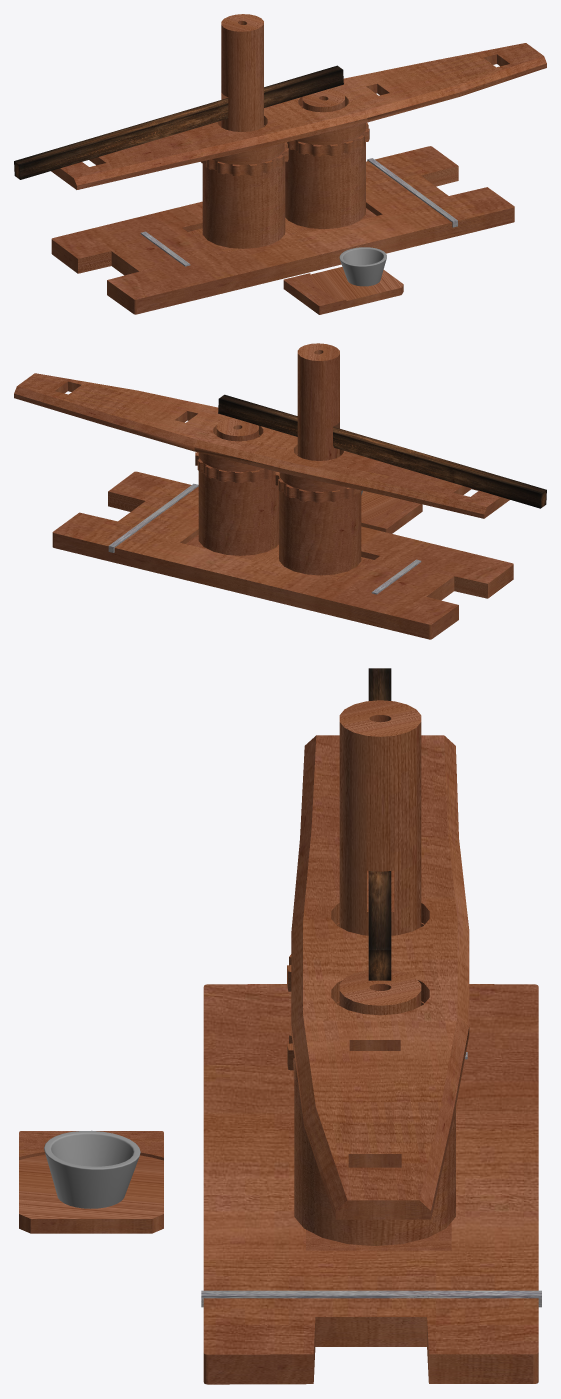
Rendered from _unasan.FBX.
3 views of the same model, one above another, from view 1: azimuth 30°, elevation 25°; view 2: azimuth 150°, elevation 25°; view 3: azimuth 270°, elevation 25° (orthographic). The views are drawn at different scales.
Visible parts, largest first — view 1: Cylinder001, Box001, Box002; view 2: Cylinder001, Box001, Box002; view 3: Cylinder001, Box002, Box001.
Part boxes in pixels (<box>): Cylinder001: <box>51,14,546,314</box>; Box001: <box>14,65,343,179</box>; Box002: <box>140,158,457,286</box>; Cylinder001: <box>14,343,513,639</box>; Box001: <box>218,394,546,508</box>; Box002: <box>108,483,421,594</box>; Cylinder001: <box>19,700,538,1384</box>; Box002: <box>44,1052,541,1307</box>; Box001: <box>368,668,391,980</box>.
Bounding box in the file's own units: 126 × 51.51 × 55.01.
